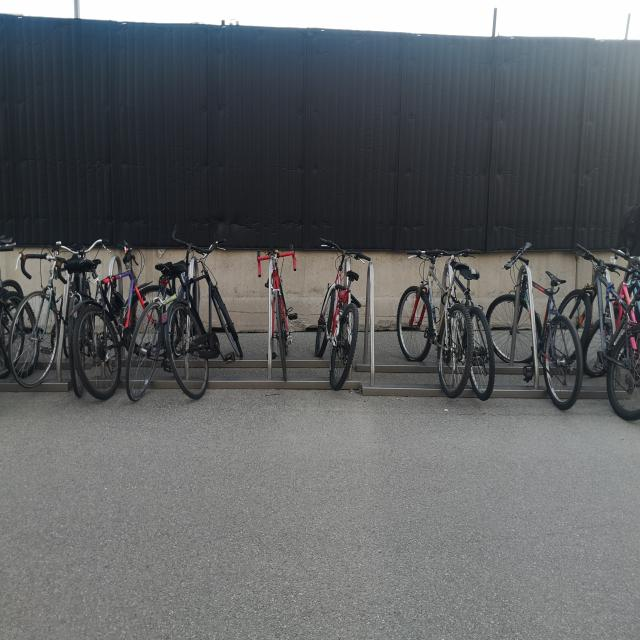Bicycle: (482, 238, 584, 434), (164, 208, 252, 411), (556, 239, 640, 446), (64, 229, 153, 422), (393, 256, 472, 417), (248, 226, 304, 407), (128, 238, 182, 416), (430, 243, 496, 387), (14, 237, 71, 402), (321, 238, 374, 407), (54, 230, 116, 364), (607, 240, 640, 371)
